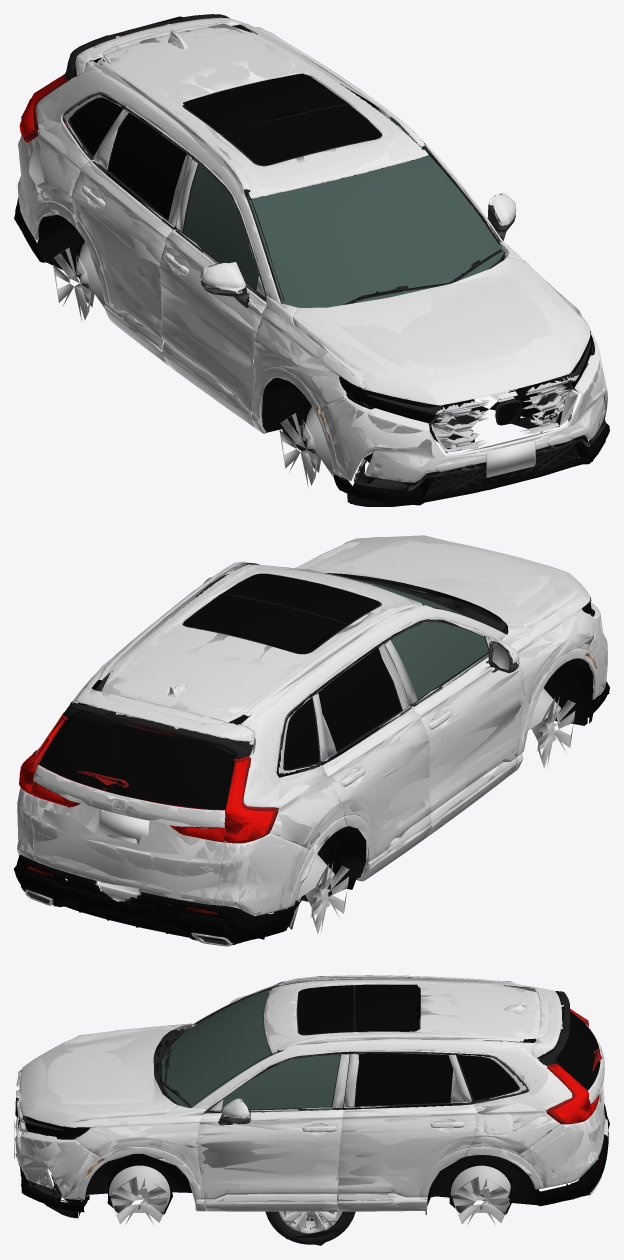
Rendered from suv9.glb.
The picture shows the model from 3 angles, top to bottom: view 1: azimuth 30°, elevation 25°; view 2: azimuth 150°, elevation 25°; view 3: azimuth 270°, elevation 25°; orthographic projection. The views are drawn at different scales.
Parts seen in each view (by area): view 1: body0, body2, body1; view 2: body0, body2, body1; view 3: body0, body2, body1, wheel0, wheel1.
Part boxes in pixels (left/top/right/bottom): body0: left=15, top=14, right=609, bottom=506; body2: left=14, top=16, right=609, bottom=503; body1: left=17, top=18, right=607, bottom=506; body0: left=14, top=537, right=609, bottom=946; body2: left=14, top=535, right=609, bottom=941; body1: left=17, top=537, right=607, bottom=915; body0: left=14, top=975, right=608, bottom=1218; body2: left=14, top=976, right=609, bottom=1225; body1: left=15, top=975, right=607, bottom=1215; wheel0: left=265, top=1204, right=355, bottom=1244; wheel1: left=268, top=1209, right=352, bottom=1245.
Bounding box in the file's own units: 2.15 × 2.07 × 4.69.
